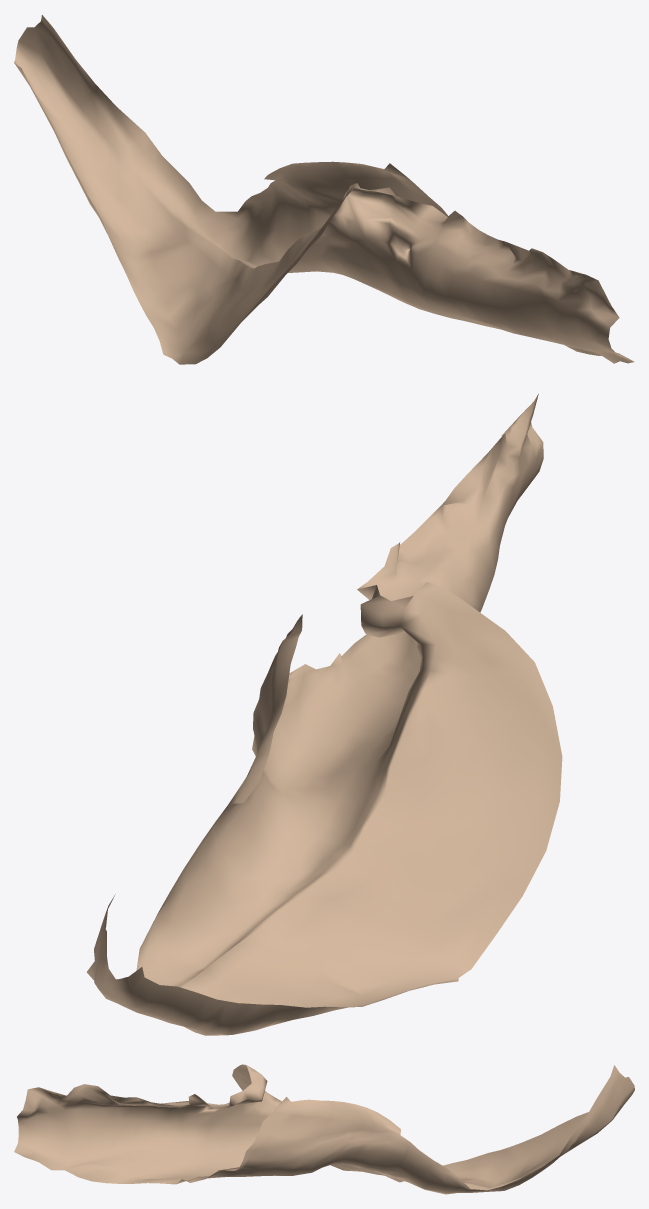
3 views of the same model, one above another, from view 1: azimuth 30°, elevation 25°; view 2: azimuth 150°, elevation 25°; view 3: azimuth 270°, elevation 25° (orthographic). The views are drawn at different scales.
Visible parts, largest first — view 1: 右侧髂腰筋膜; view 2: 右侧髂腰筋膜; view 3: 右侧髂腰筋膜.
Part boxes in pixels (<box>): 右侧髂腰筋膜: <box>14,15,634,364</box>; 右侧髂腰筋膜: <box>87,394,562,1035</box>; 右侧髂腰筋膜: <box>14,1064,634,1194</box>.
Bounding box in the file's own units: 0.1431 × 0.1262 × 0.4966.
